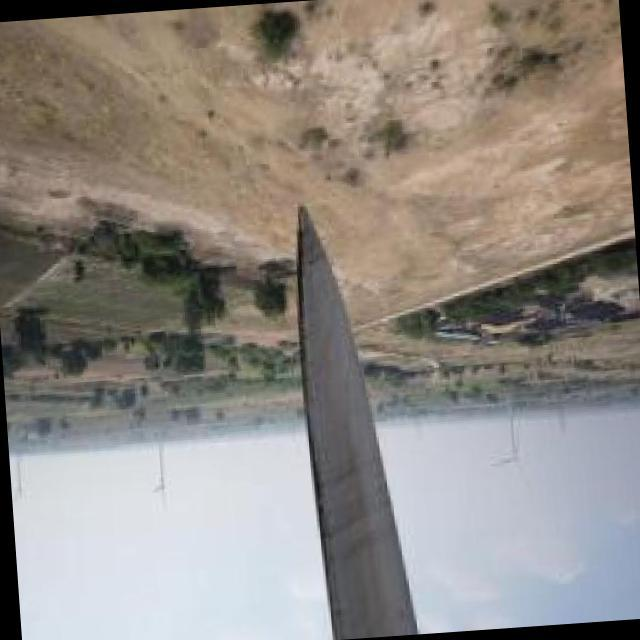Dirt: (306, 236, 427, 635)
Oil LEAKAGE: (293, 223, 339, 636)
